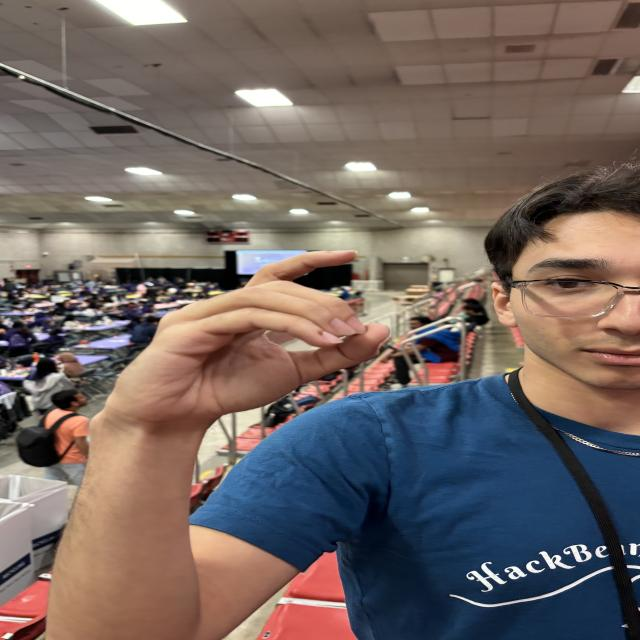D: (128, 234, 406, 398)
